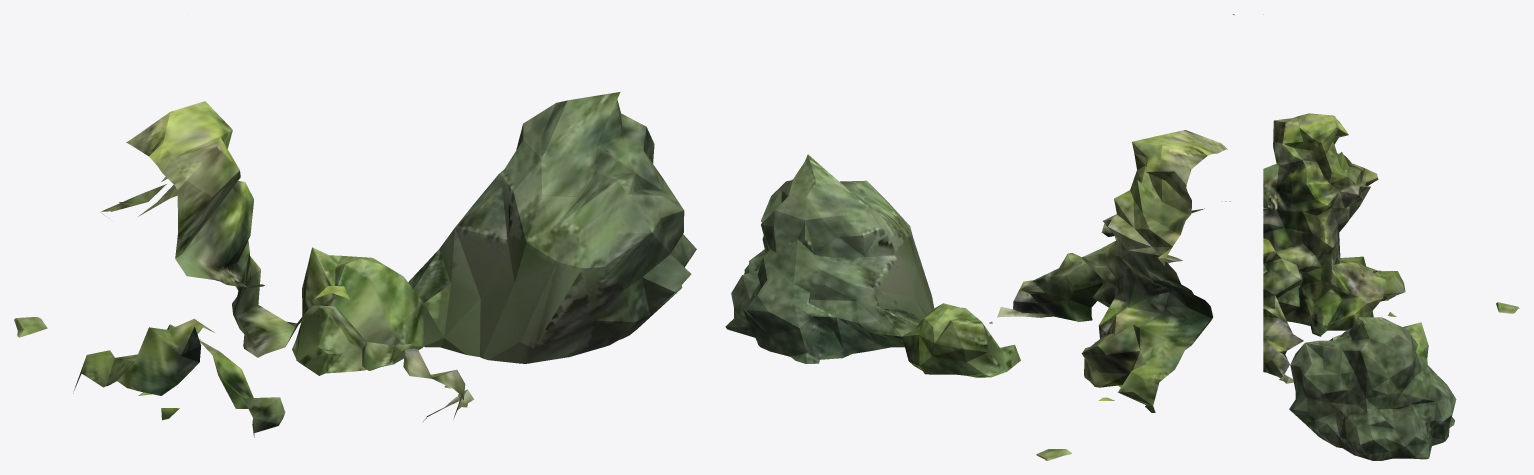
3 renders of one model, left to right at view 1: azimuth 30°, elevation 25°; view 2: azimuth 150°, elevation 25°; view 3: azimuth 270°, elevation 25°, orthographic. The views are drawn at different scales.
Size of the model in its own units: 20.78 by 15.9 by 13.16.
Materials: 2 (2 with a texture image).
